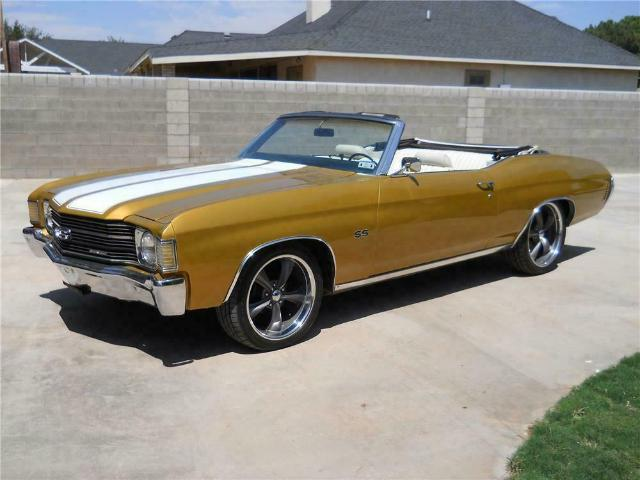chevelle-1972: (24, 111, 613, 350)
